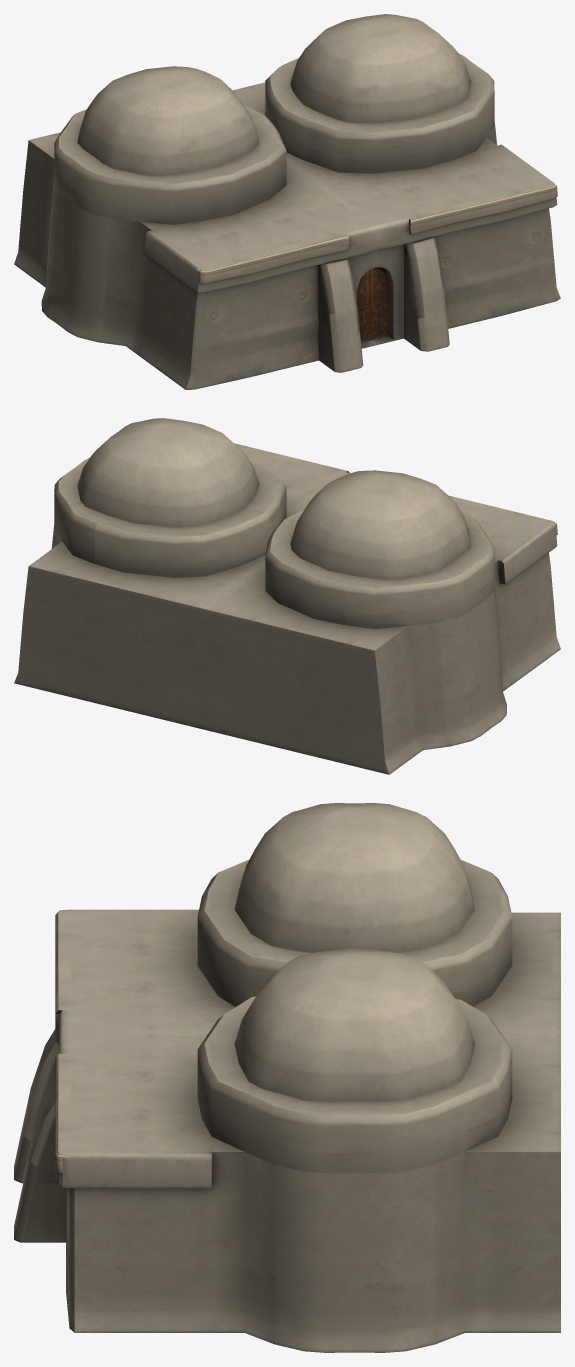
File: building21.fbx
3 renders of one model, top to bottom at view 1: azimuth 30°, elevation 25°; view 2: azimuth 150°, elevation 25°; view 3: azimuth 270°, elevation 25°, orthographic. The views are drawn at different scales.
Visible parts, largest first — view 1: building21; view 2: building21; view 3: building21.
Part boxes in pixels (<box>): building21: <box>14,14,560,389</box>; building21: <box>14,418,560,774</box>; building21: <box>14,803,560,1352</box>.
Size of the model in its own units: 511 by 244 by 395.
